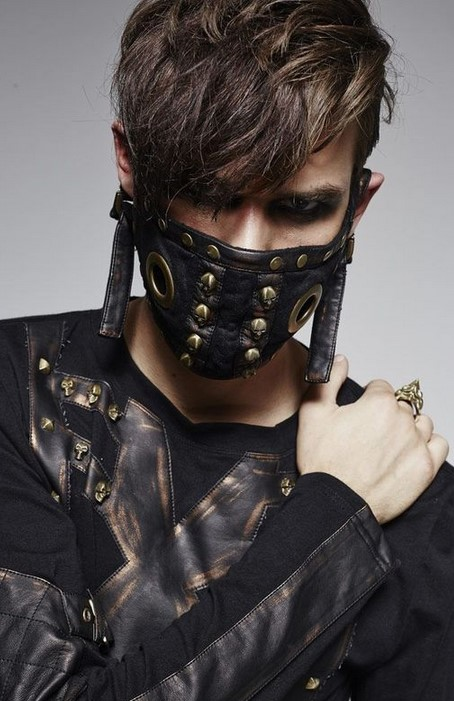face_with_mask: (90, 3, 396, 397)
